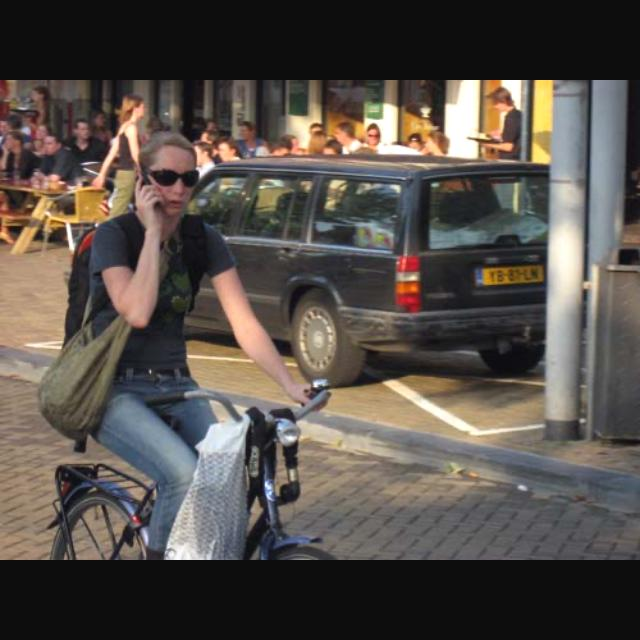Without Helmet: (134, 130, 203, 218)
